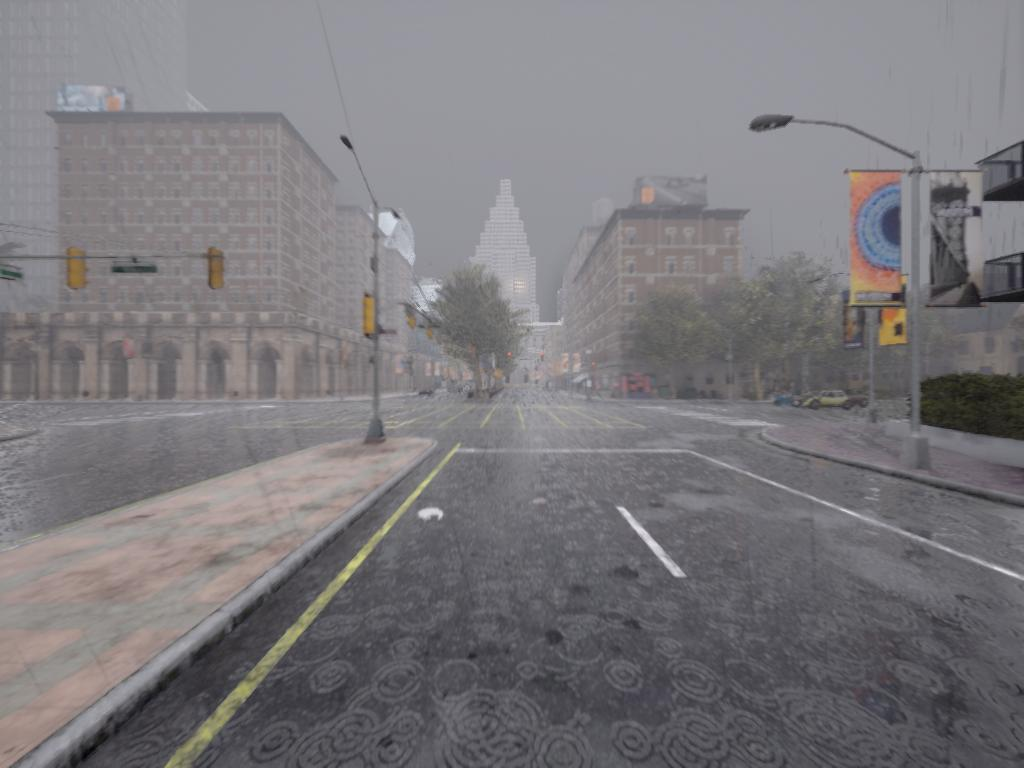traffic_light: (65, 250, 88, 291), (207, 250, 227, 289), (360, 295, 379, 336), (508, 352, 513, 366), (541, 351, 546, 364), (592, 363, 597, 374)
